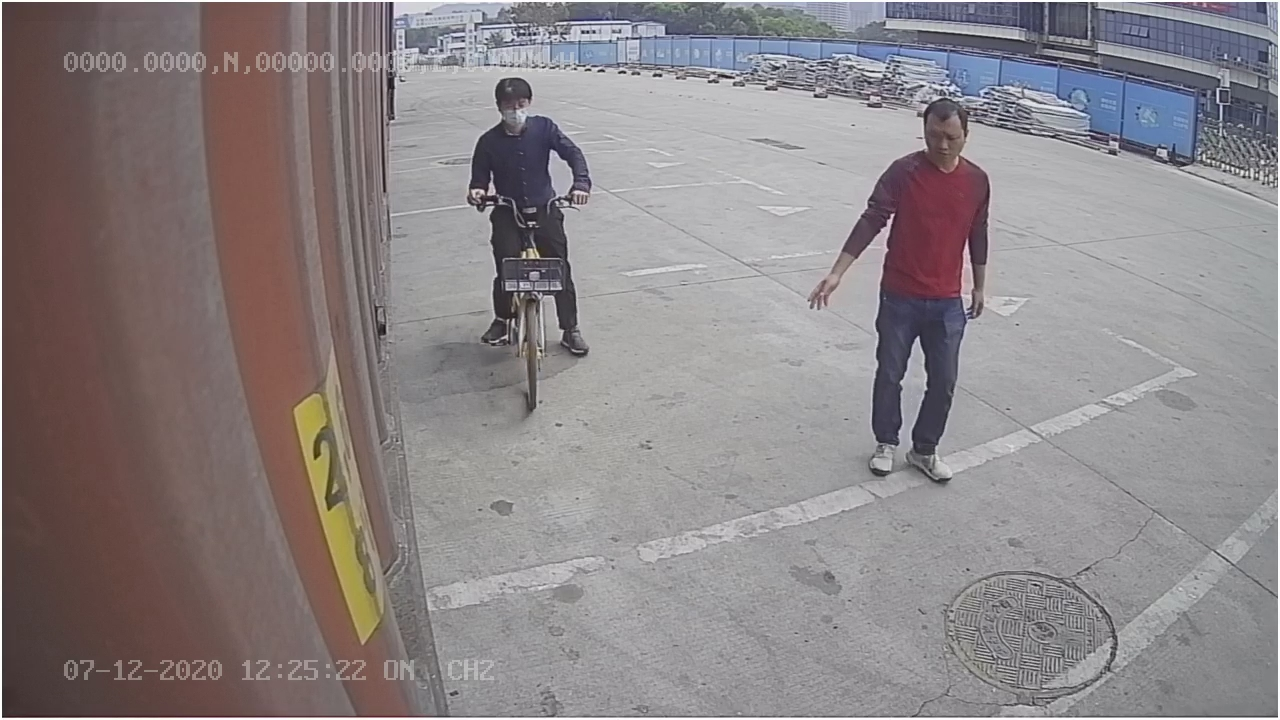person: (799, 93, 998, 493)
